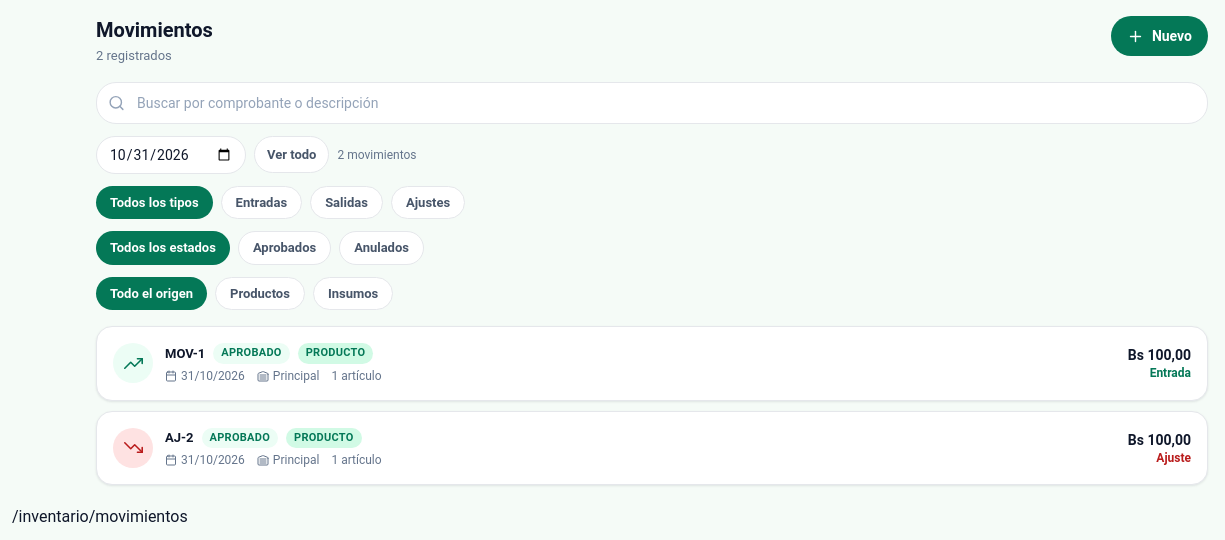
Test: Nuevo movimiento: sólo entrada y salida › un ajuste viejo se sigue viendo y se puede filtrar
expect the text "AJ-2" is shown: met, box [165,428,194,448]
Click the button "Ajustes" at point(428, 202), box [391,186,465,219]
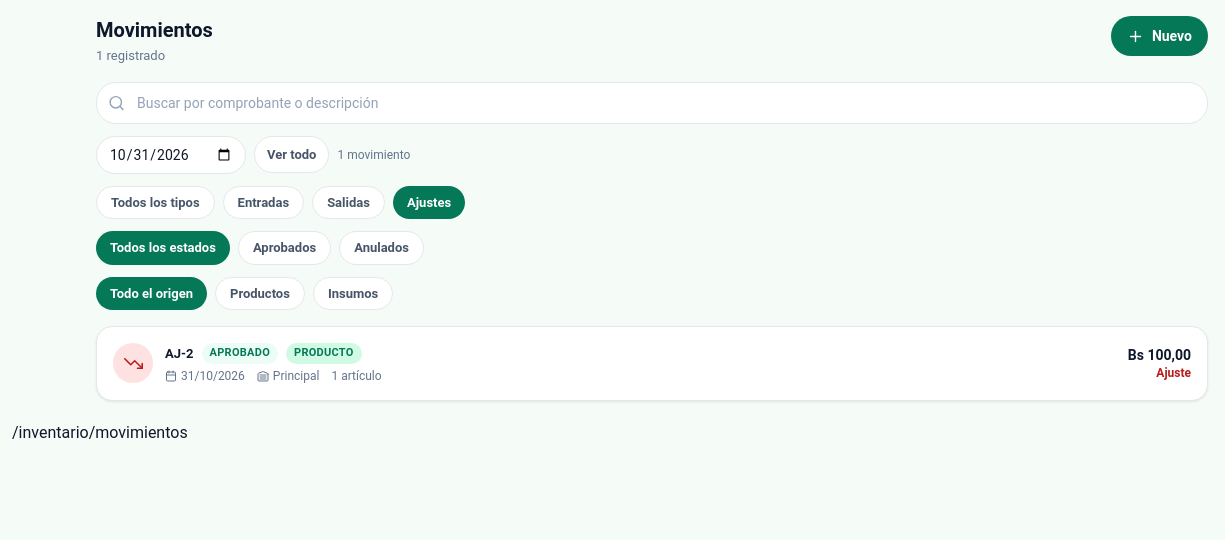
expect the text "AJ-2" is shown: met, box [165,344,194,363]
expect the button "MOV-1" is gone: met
